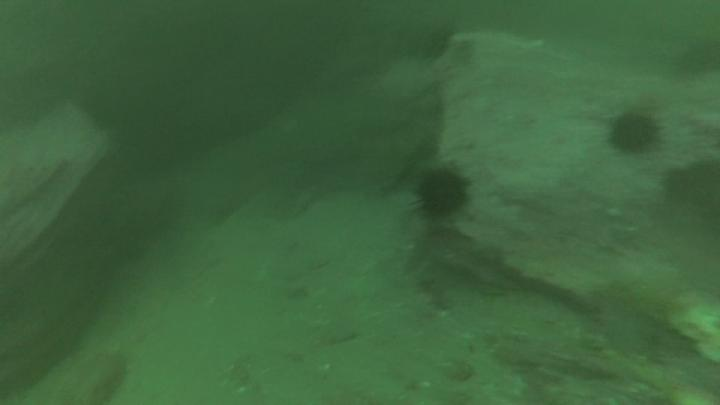echinus: (412, 166, 473, 221), (606, 108, 668, 160), (423, 26, 456, 63)
